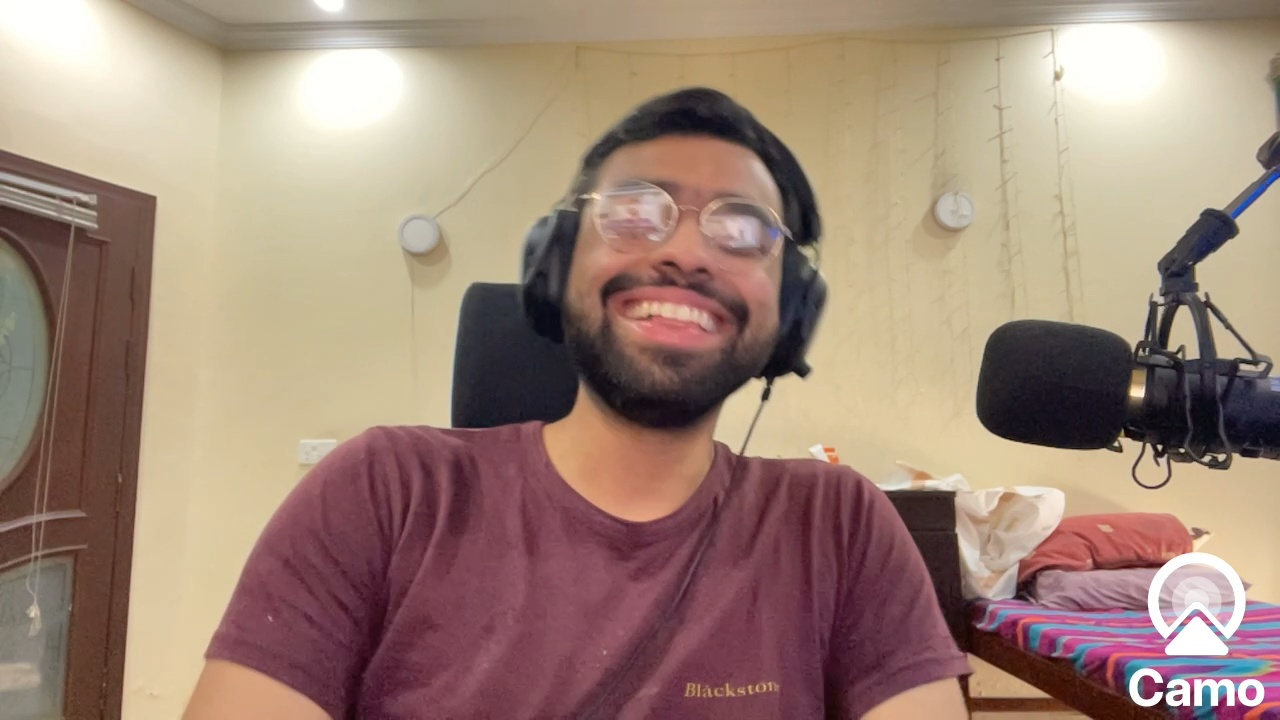happy: (582, 127, 779, 411)
